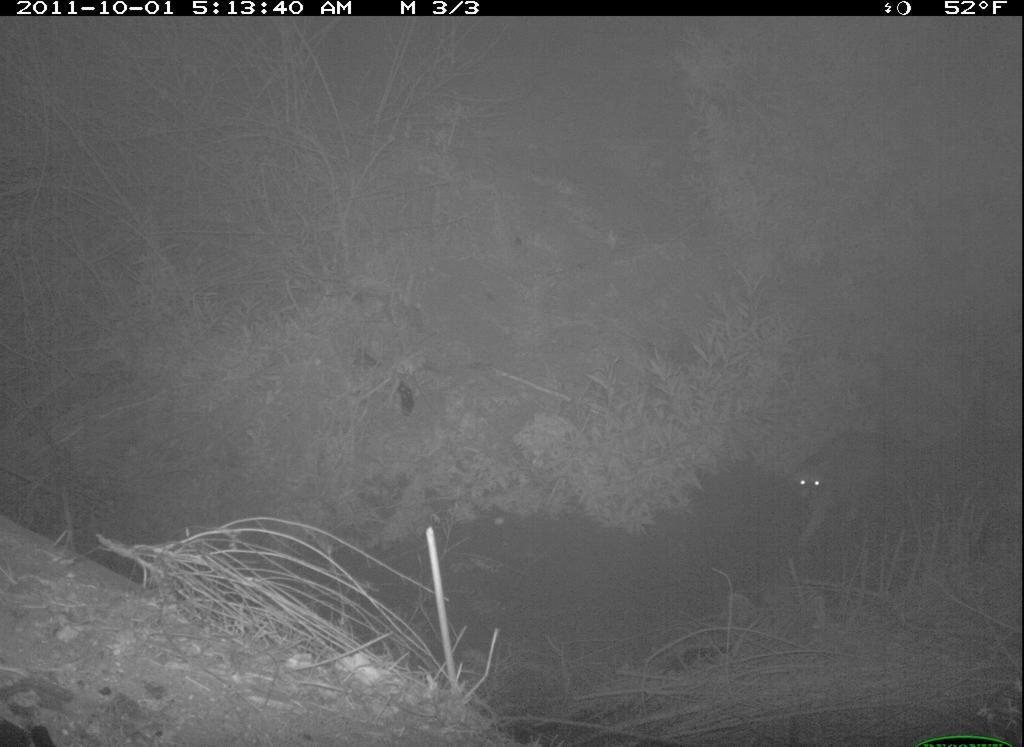raccoon: (777, 419, 911, 566)
